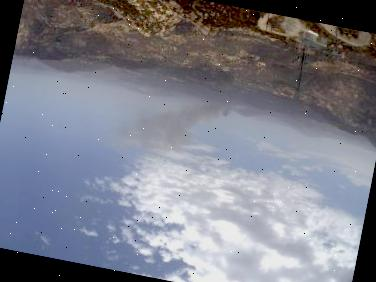smoke: (103, 65, 266, 195)
